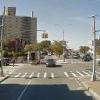Crosswalk: (7, 65, 81, 84)
